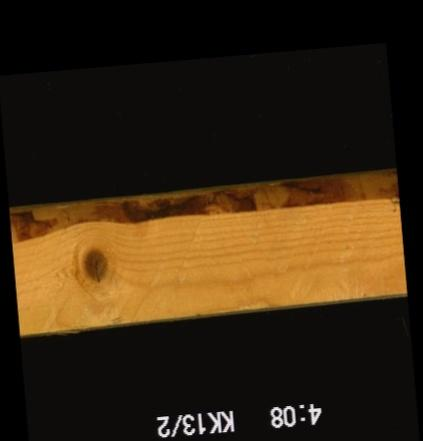sound_knot: (82, 246, 109, 284)
wave: (9, 184, 397, 230)
